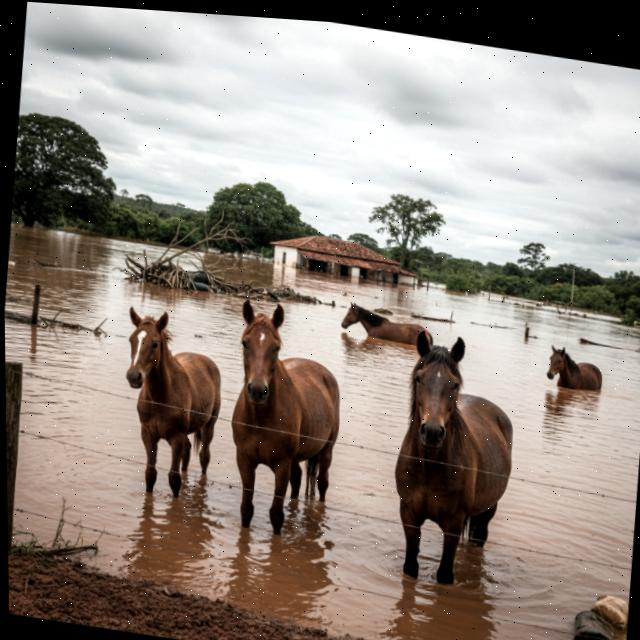horse: (374, 323, 533, 602), (207, 290, 357, 553), (105, 296, 228, 512), (334, 296, 441, 359), (537, 336, 611, 402)
